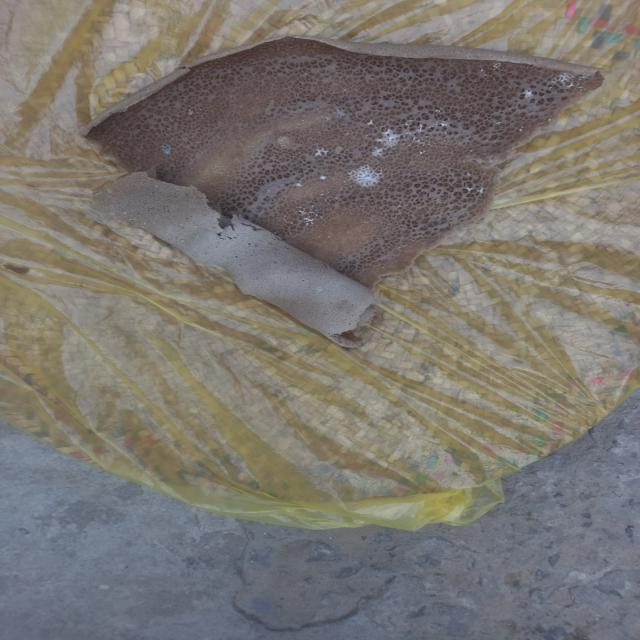injera_mold: (347, 166, 386, 190), (372, 127, 401, 156), (295, 206, 324, 227), (554, 72, 589, 87), (465, 185, 487, 196), (314, 147, 331, 158), (403, 119, 411, 140), (434, 120, 450, 130), (333, 108, 346, 120), (520, 89, 535, 99), (158, 144, 173, 154), (187, 108, 203, 117), (415, 123, 426, 134), (491, 61, 503, 70), (412, 136, 424, 144), (318, 173, 329, 181), (365, 119, 376, 126), (493, 119, 502, 126), (419, 148, 426, 156), (434, 108, 443, 114), (465, 170, 472, 177), (296, 182, 304, 188), (546, 85, 554, 91), (109, 210, 115, 218), (317, 286, 323, 294), (318, 192, 326, 198), (128, 218, 139, 222), (266, 188, 273, 194), (518, 126, 524, 132), (180, 238, 186, 244), (424, 111, 430, 117), (533, 98, 538, 105), (367, 133, 372, 140), (441, 131, 449, 135), (547, 117, 552, 123), (326, 198, 332, 203), (304, 72, 310, 76), (442, 139, 448, 143), (468, 149, 474, 153), (342, 89, 349, 92), (155, 184, 159, 189), (362, 222, 370, 224), (479, 69, 484, 72), (123, 210, 126, 215), (144, 222, 147, 227), (520, 65, 523, 69), (482, 74, 487, 76), (327, 236, 332, 238), (493, 77, 495, 80)
